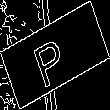P_NW: (34, 24, 76, 86)
